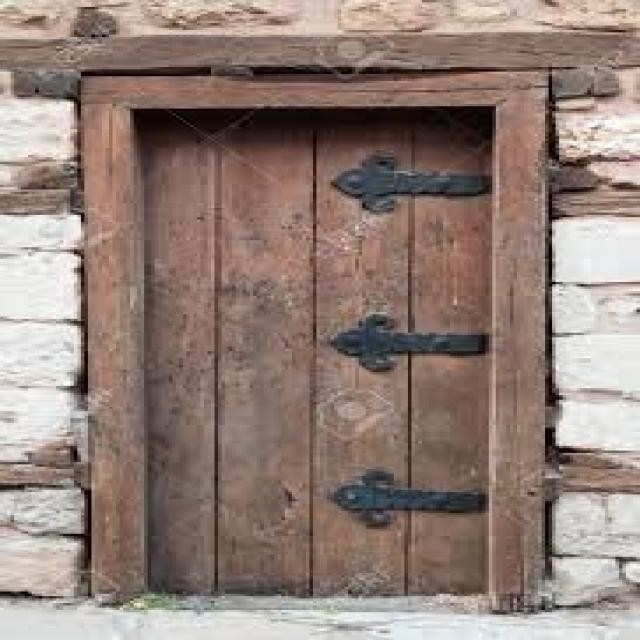door: (90, 84, 519, 603)
